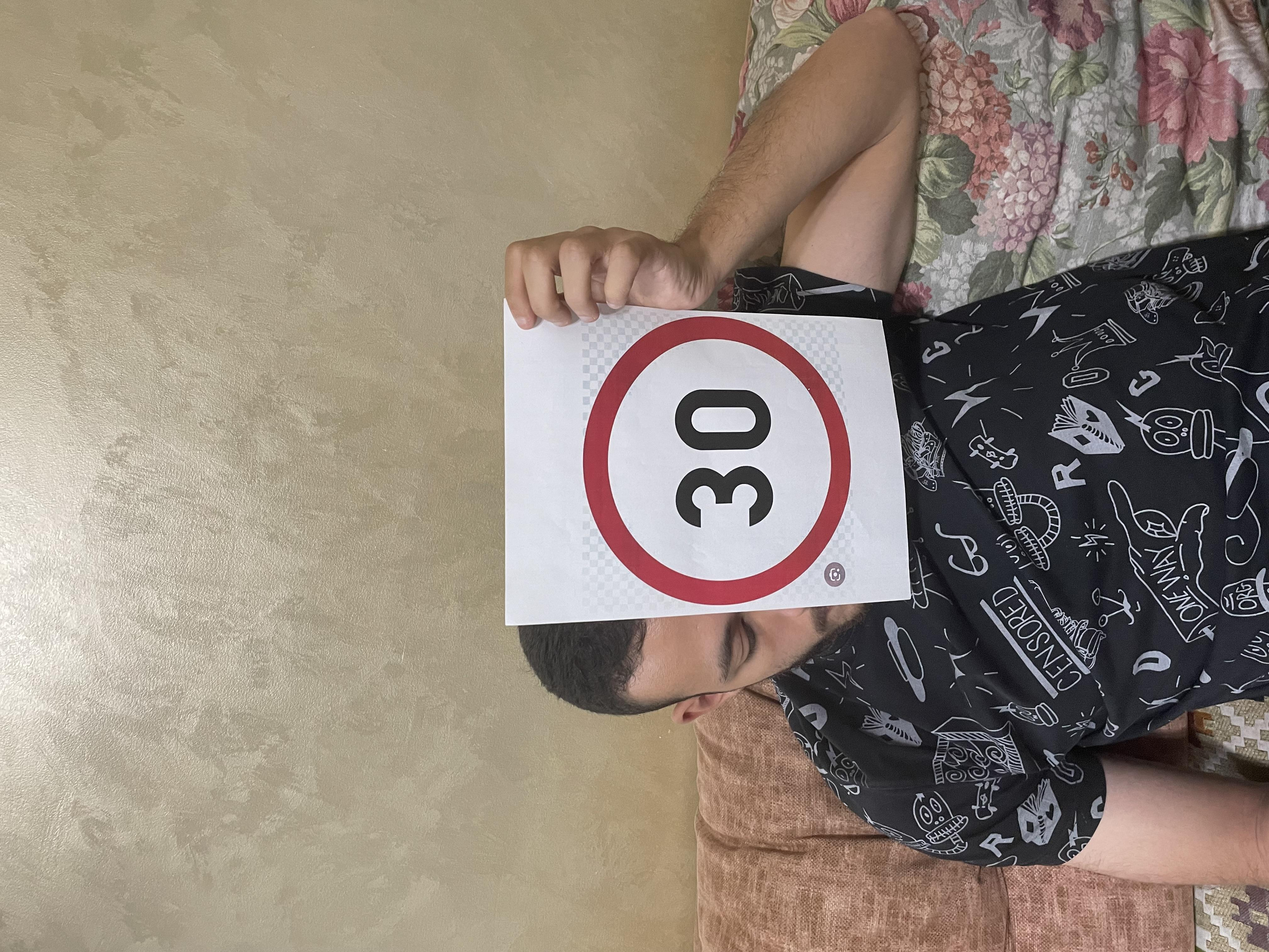30-speed: (462, 428, 848, 640)
